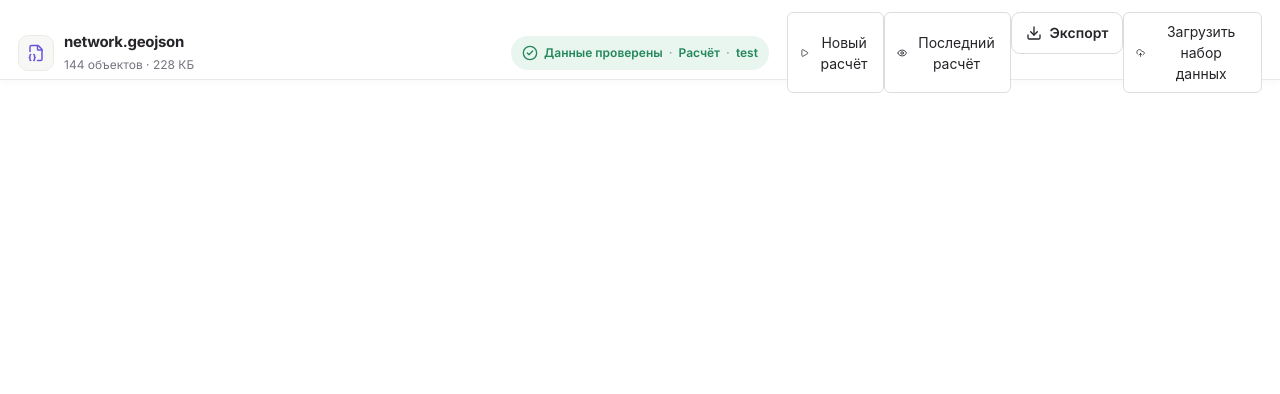
Scenario: OfficialWorkspacePage › offers separate strict GeoJSON downloads for every complete ranked variant
The width and height of the screenshot is (1280, 394).
Click the heading "Экспорт": (1067, 33) x1=1010 y1=12 x2=1123 y2=54
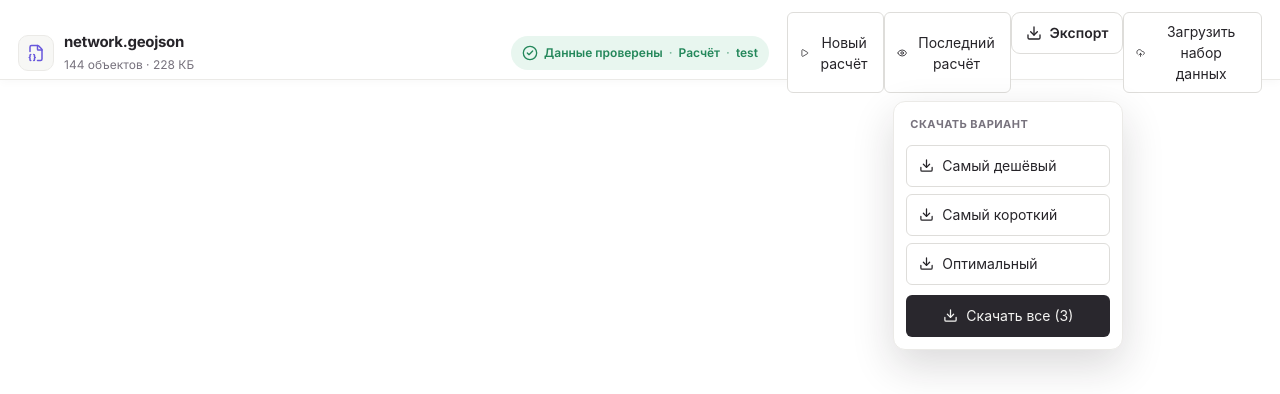
Expected: the button "Самый дешёвый" is shown, x1=906 y1=144 x2=1110 y2=186
Expected: the button "Самый короткий" is shown, x1=906 y1=194 x2=1110 y2=236
Expected: the button "Оптимальный" is shown, x1=906 y1=242 x2=1110 y2=284
